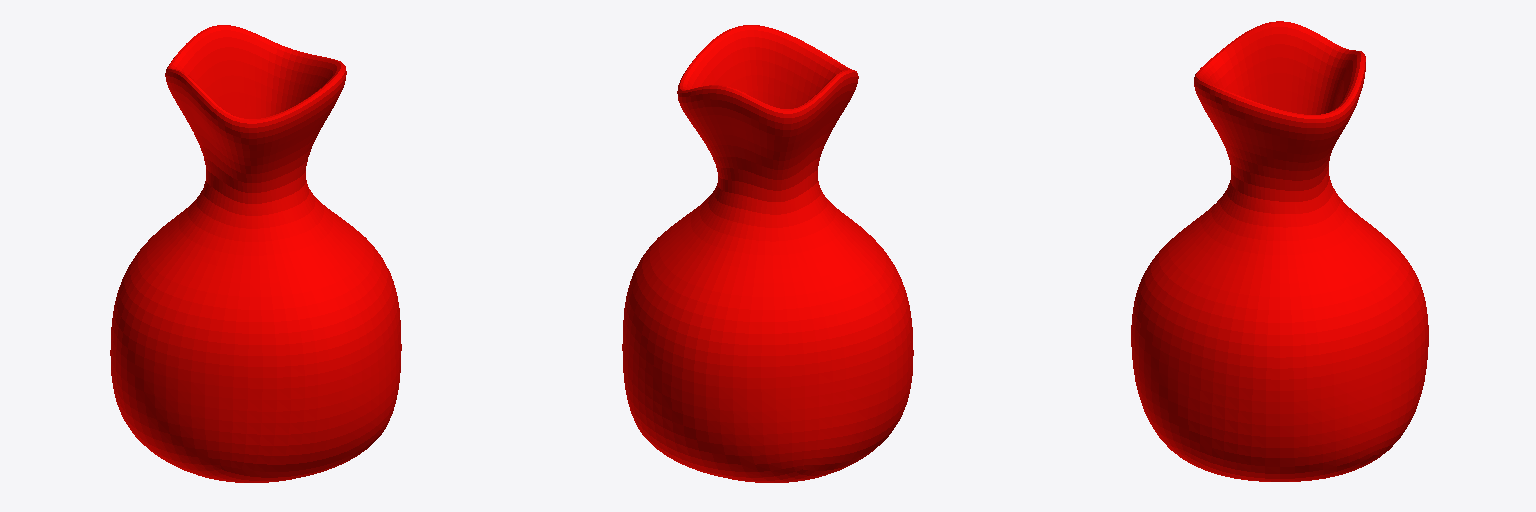
File: pouch_tomat.obj
3 renders of one model, left to right at view 1: azimuth 30°, elevation 25°; view 2: azimuth 150°, elevation 25°; view 3: azimuth 270°, elevation 25°, orthographic.
Parts seen in each view (by area): view 1: Cube.001; view 2: Cube.001; view 3: Cube.001.
Boxes of the visible parts, x1=… form: Cube.001: x1=110, y1=25, x2=401, y2=482; Cube.001: x1=622, y1=25, x2=913, y2=482; Cube.001: x1=1131, y1=21, x2=1428, y2=481.
Bounding box in the file's own units: 0.2653 × 0.3925 × 0.2653.